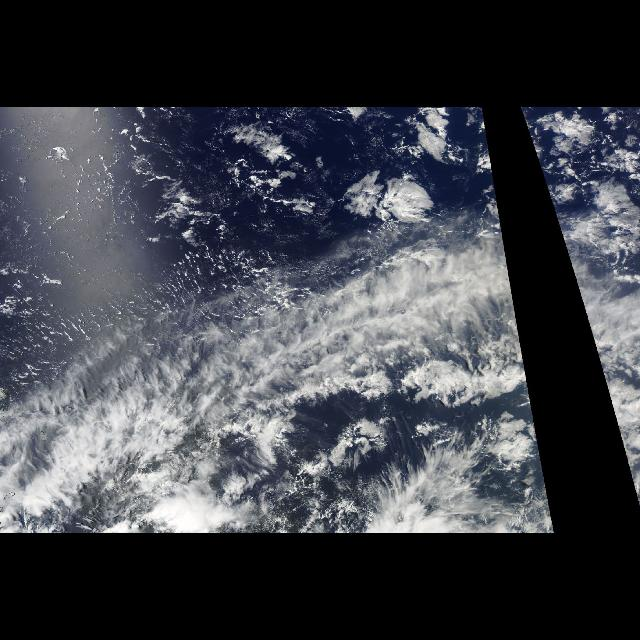Flower: (294, 112, 504, 254), (522, 112, 634, 254)
Sugar: (4, 112, 250, 304)
